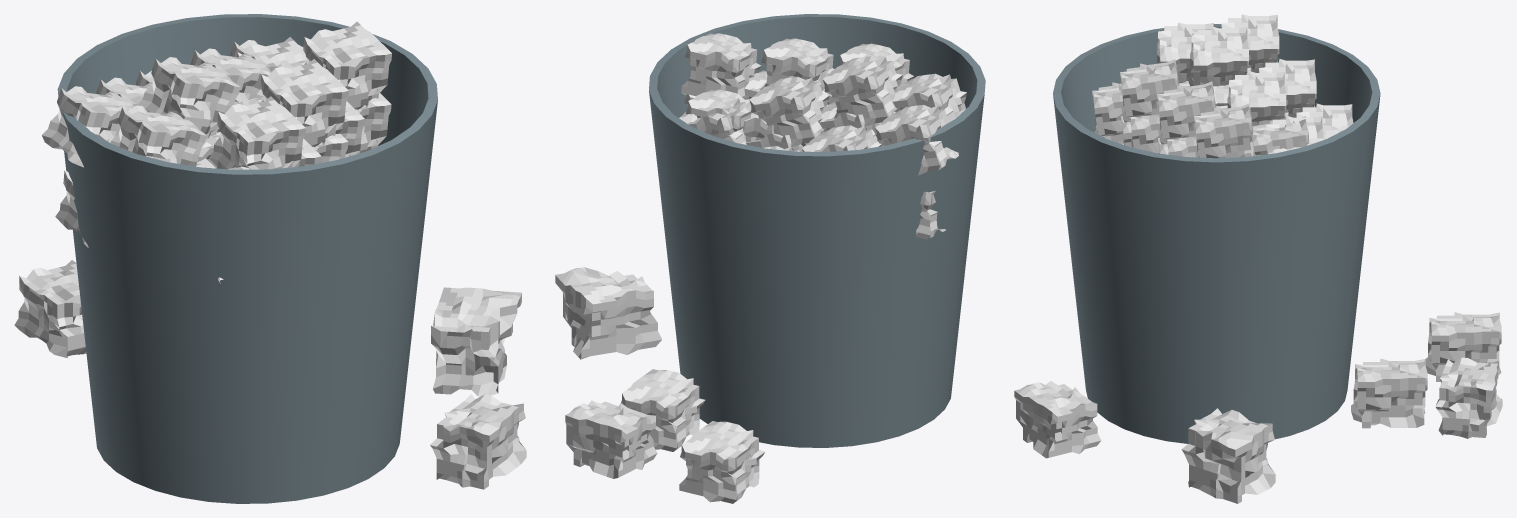
File: trashcan_04.glb
3 renders of one model, left to right at view 1: azimuth 30°, elevation 25°; view 2: azimuth 150°, elevation 25°; view 3: azimuth 270°, elevation 25°, orthographic. The views are drawn at different scales.
Parts seen in each view (by area): view 1: Cylinder.120; view 2: Cylinder.120; view 3: Cylinder.120.
Boxes of the visible parts, x1=… form: Cylinder.120: x1=14, y1=14, x2=526, y2=503; Cylinder.120: x1=555, y1=14, x2=985, y2=503; Cylinder.120: x1=1014, y1=14, x2=1502, y2=503.
Size of the model in its own units: 0.4934 by 0.4037 by 0.5305.
